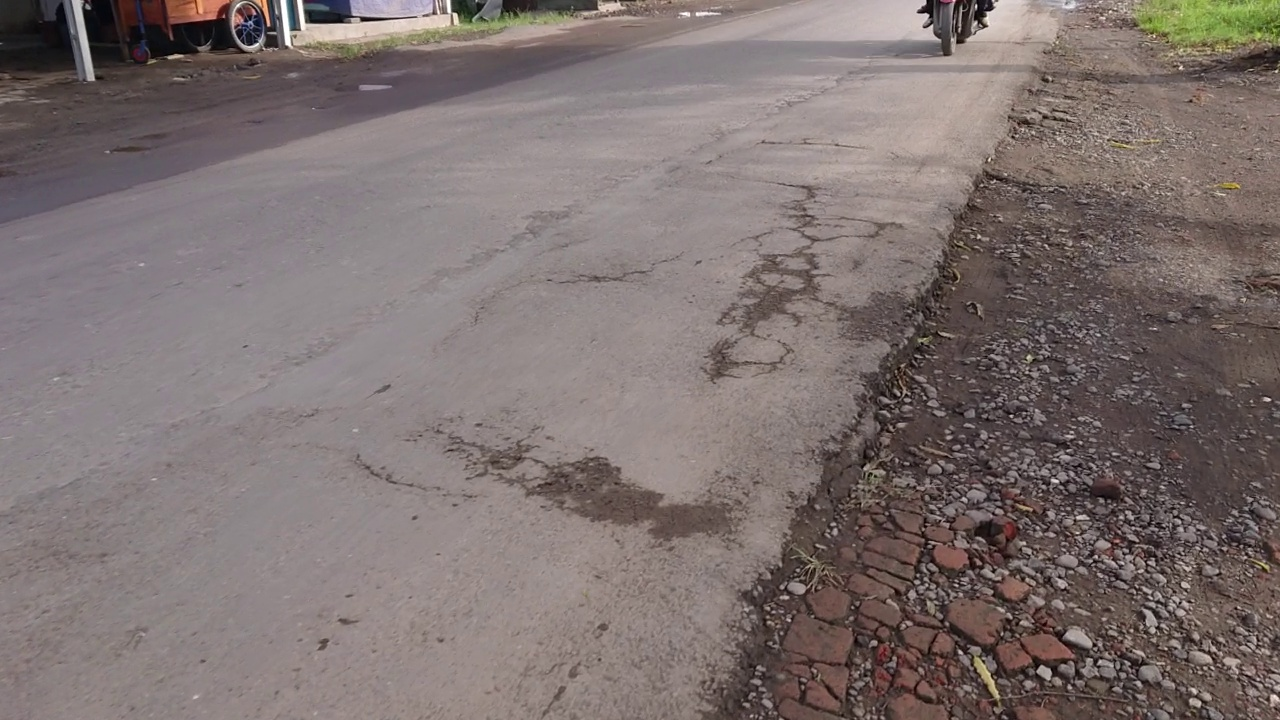Retak: (711, 171, 879, 390)
